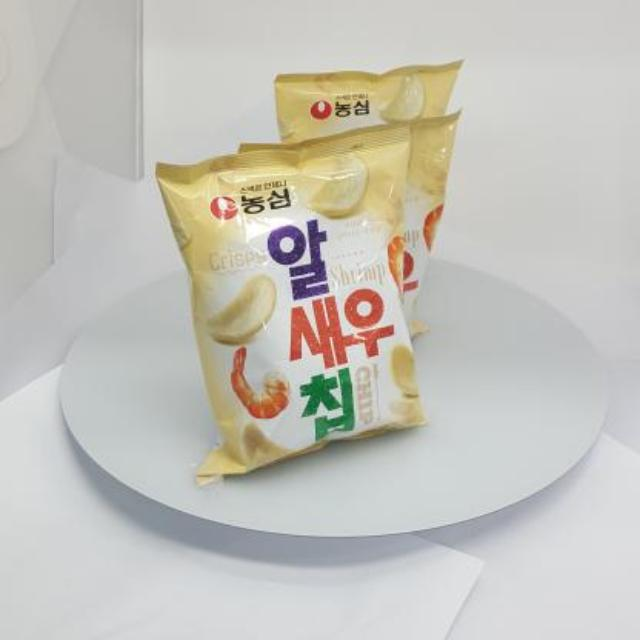snack_bag: (139, 52, 489, 496)
